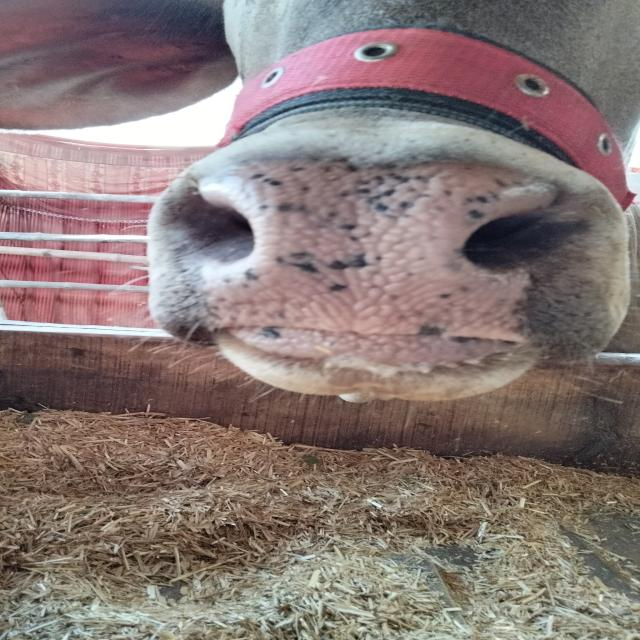muzzles: (179, 145, 577, 368)
